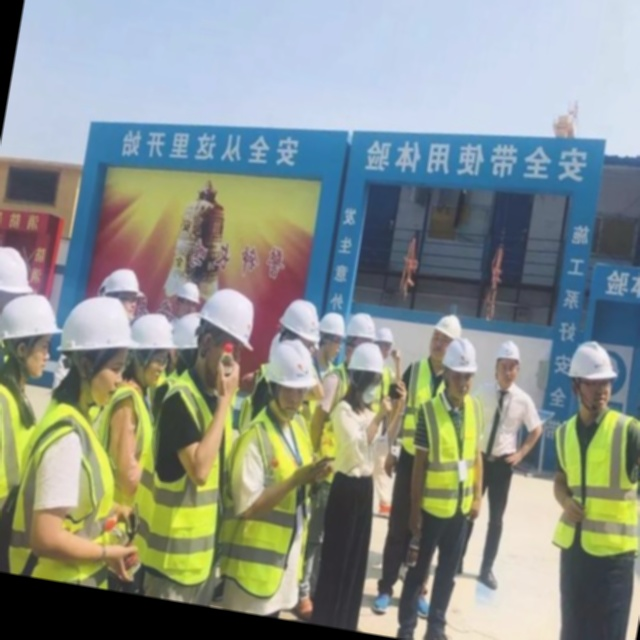Sin_Chaleco: (126, 385, 238, 576), (217, 407, 320, 612), (541, 404, 640, 562), (405, 390, 485, 517)
